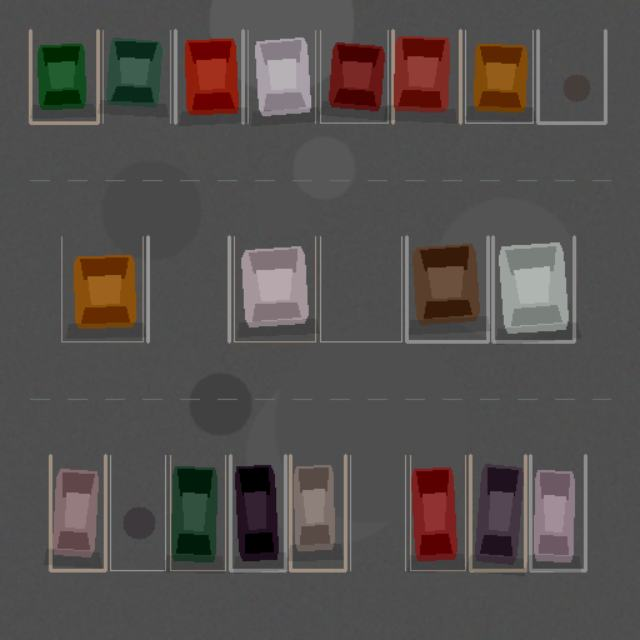space-empty: (147, 236, 229, 341), (320, 236, 401, 341), (110, 455, 165, 570), (350, 455, 405, 570), (537, 30, 605, 123)
space-occupied: (61, 236, 143, 341), (234, 236, 315, 341), (406, 236, 487, 341), (493, 236, 574, 341), (50, 455, 105, 570), (170, 455, 225, 570), (230, 455, 285, 570), (290, 455, 345, 570), (410, 455, 465, 570), (470, 455, 525, 570), (530, 455, 585, 570), (175, 30, 243, 123), (247, 30, 315, 123), (465, 30, 533, 123), (30, 30, 97, 123), (103, 30, 170, 123), (320, 30, 387, 123), (393, 30, 460, 123)
